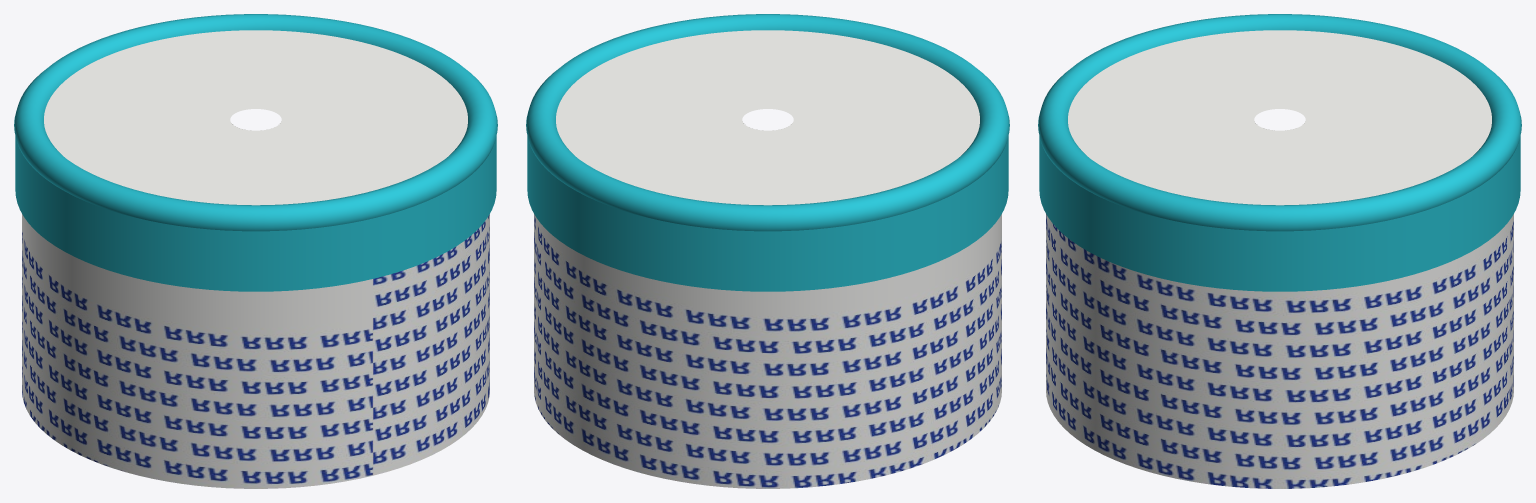
3 views of the same model, side by side, from view 1: azimuth 30°, elevation 25°; view 2: azimuth 150°, elevation 25°; view 3: azimuth 270°, elevation 25° (orthographic).
Parts seen in each view (by area): view 1: E100-H114; view 2: E100-H114; view 3: E100-H114.
Boxes of the visible parts, <box> form: E100-H114: <box>14,14,497,488</box>; E100-H114: <box>526,14,1009,488</box>; E100-H114: <box>1038,14,1521,488</box>.
Size of the model in its own units: 0.185 by 0.1177 by 0.185.
6 materials, 1 textured.
